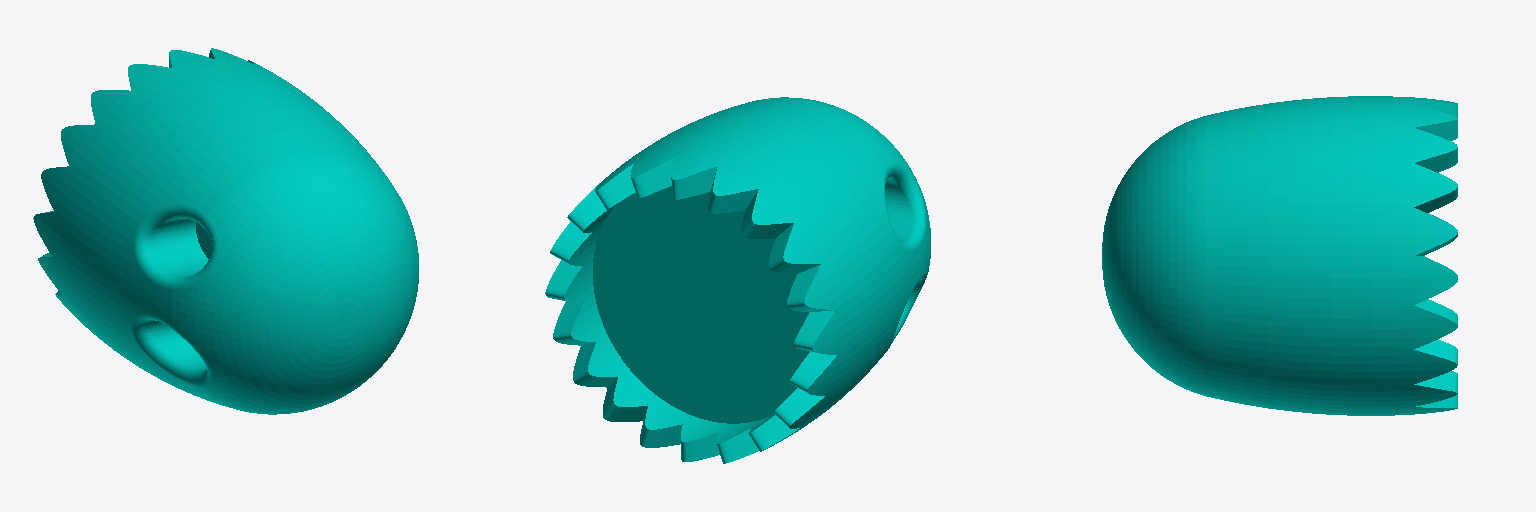
The model's file is ghost_2.obj.
3 views of the same model, side by side, from view 1: azimuth 30°, elevation 25°; view 2: azimuth 150°, elevation 25°; view 3: azimuth 270°, elevation 25° (orthographic).
Parts seen in each view (by area): view 1: Body_Pac_Man_Ghost.003; view 2: Body_Pac_Man_Ghost.003; view 3: Body_Pac_Man_Ghost.003.
Part boxes in pixels (x1,y1,x2,y2): Body_Pac_Man_Ghost.003: (33,48,418,414); Body_Pac_Man_Ghost.003: (545,97,930,463); Body_Pac_Man_Ghost.003: (1102,96,1457,415).
Bounding box in the file's own units: 1.71 × 1.71 × 1.9.